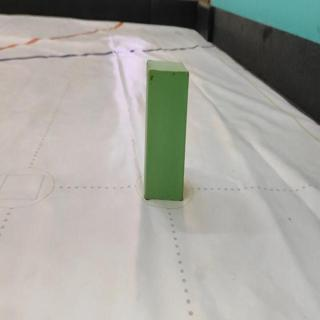greenbox: (145, 59, 190, 200)
